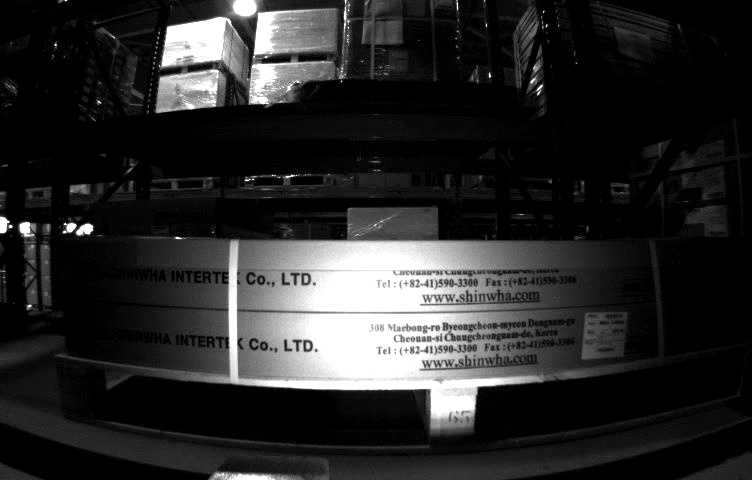True Barcode: (581, 312, 630, 359)
